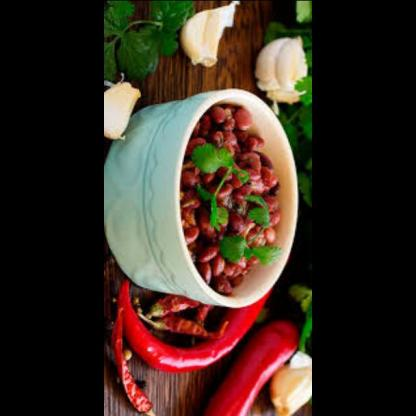fasol: (177, 100, 290, 291)
garlic: (176, 0, 243, 67), (252, 30, 310, 102), (104, 77, 145, 146), (274, 345, 312, 416)
hot pepper: (108, 288, 266, 377), (201, 316, 300, 416), (111, 303, 159, 415), (145, 313, 230, 341), (148, 293, 201, 313)
